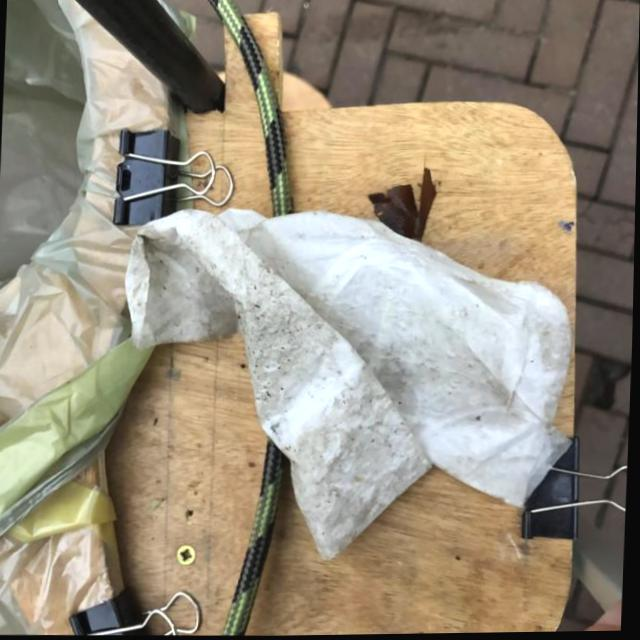Paper: (113, 200, 583, 569)
